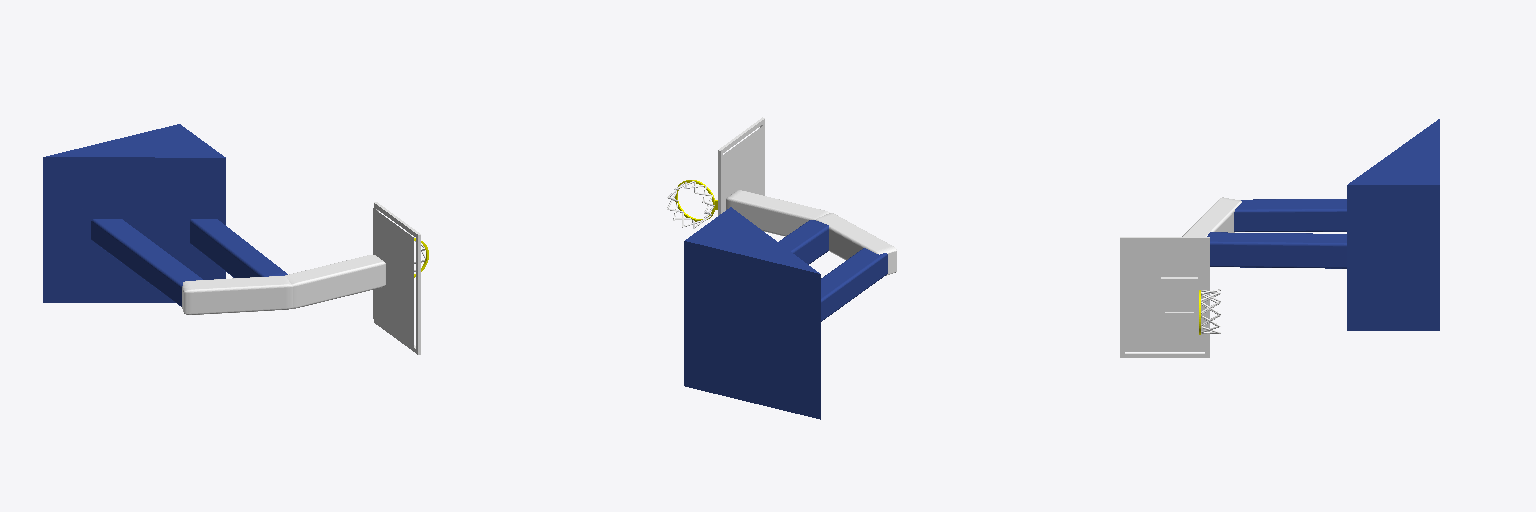
File: basket.obj
The picture shows the model from 3 angles: view 1: azimuth 30°, elevation 25°; view 2: azimuth 150°, elevation 25°; view 3: azimuth 270°, elevation 25°; orthographic projection.
Parts seen in each view (by area): view 1: obj_0; view 2: obj_0; view 3: obj_0.
Part boxes in pixels (x1,y1,x2,y2): obj_0: (43,124,428,354); obj_0: (667,117,896,419); obj_0: (1120,119,1439,357).
Size of the model in its own units: 185 by 97 by 193.